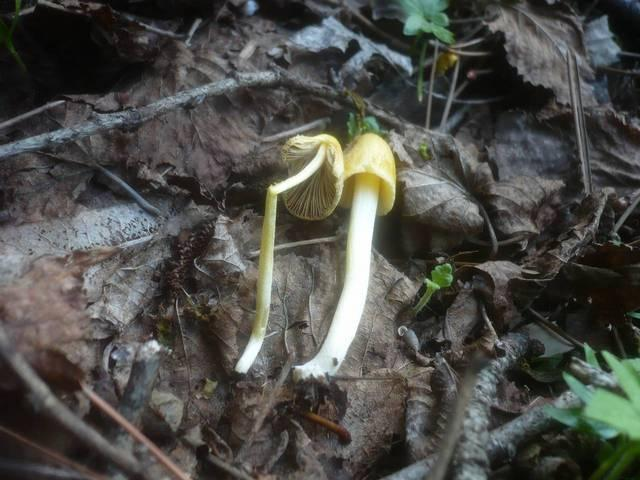Edible Mushroom: (232, 131, 345, 375), (291, 131, 397, 384)
